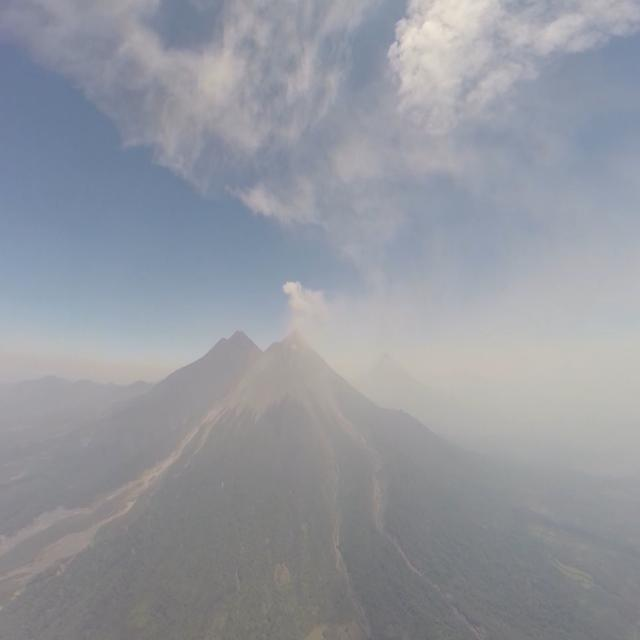Plume: (282, 276, 329, 334)
Summit: (280, 327, 310, 345)
